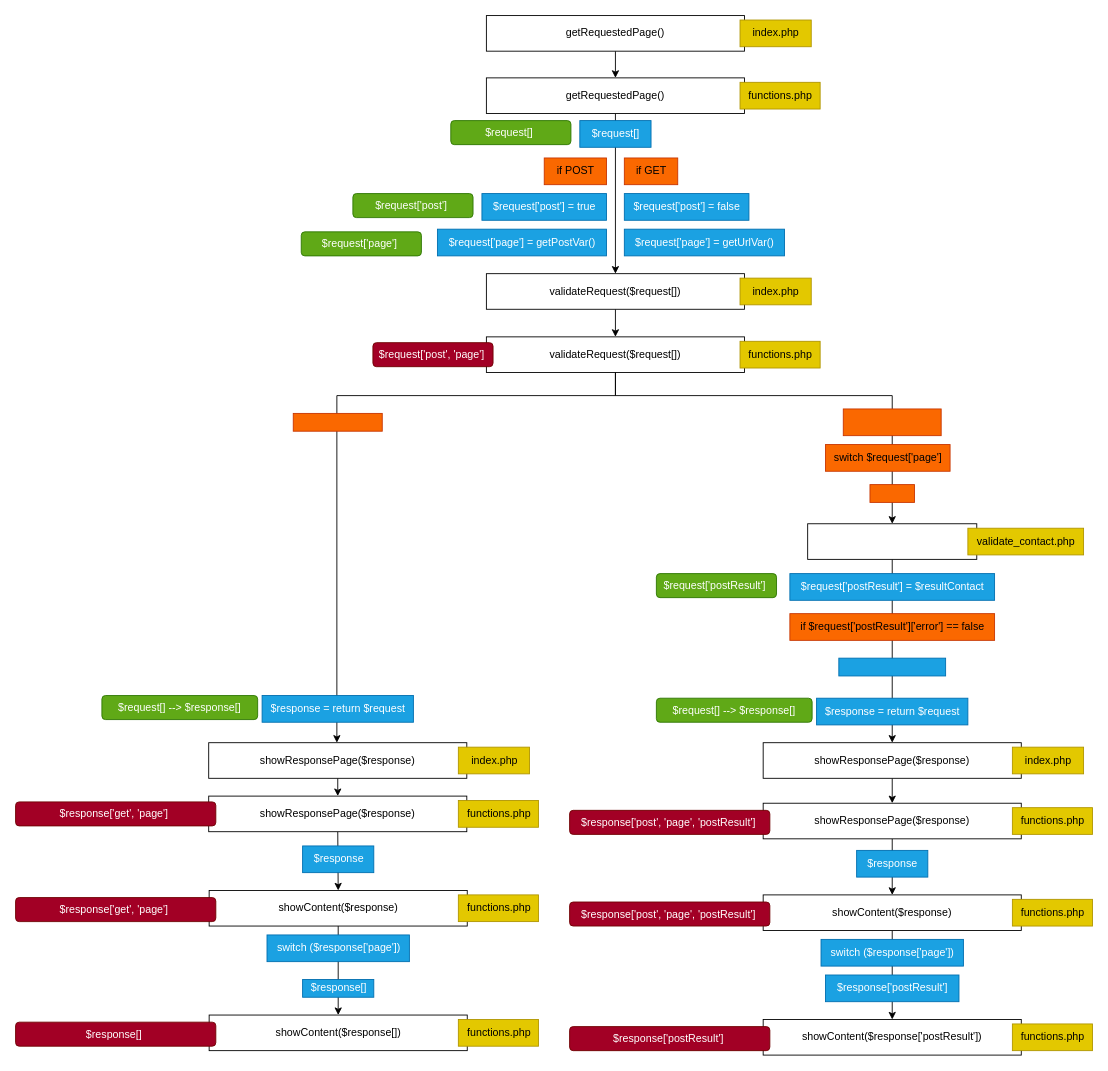
Image size: 1108x1071. Some labels were removed from this diagram. Each missing label, with the centre of its shape:
$request['page'] = 'x': the point at 892,666
case 'x': the point at 891,493
if $request['get']: the point at 337,422
if $request['post']: the point at 891,422
validateContactForm(): the point at 892,541
